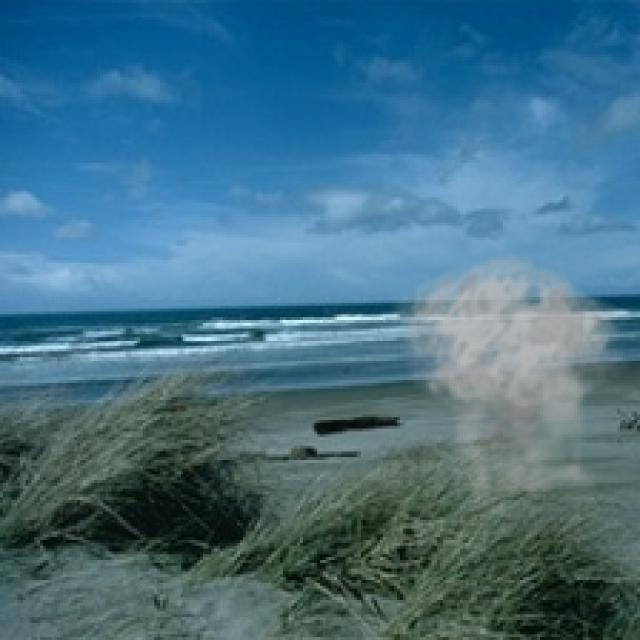Smoke: (392, 252, 637, 514)
